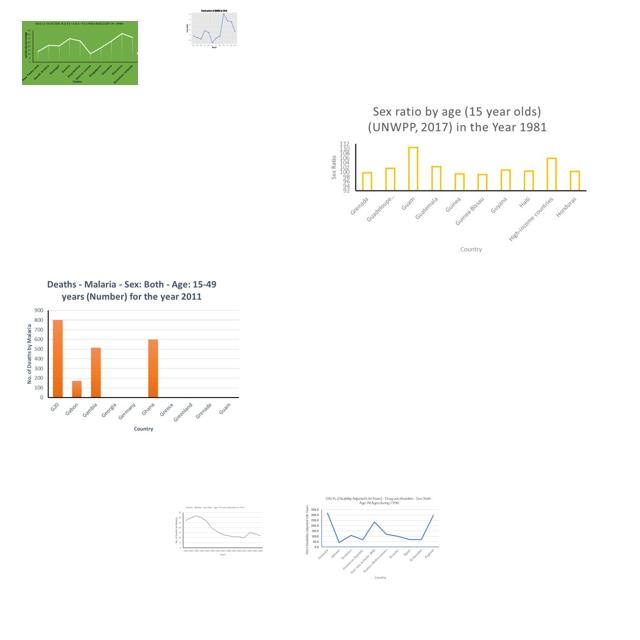Graph: (324, 101, 590, 257), (23, 277, 244, 438), (303, 495, 441, 582), (22, 21, 138, 85), (173, 505, 264, 558), (184, 6, 243, 50)
